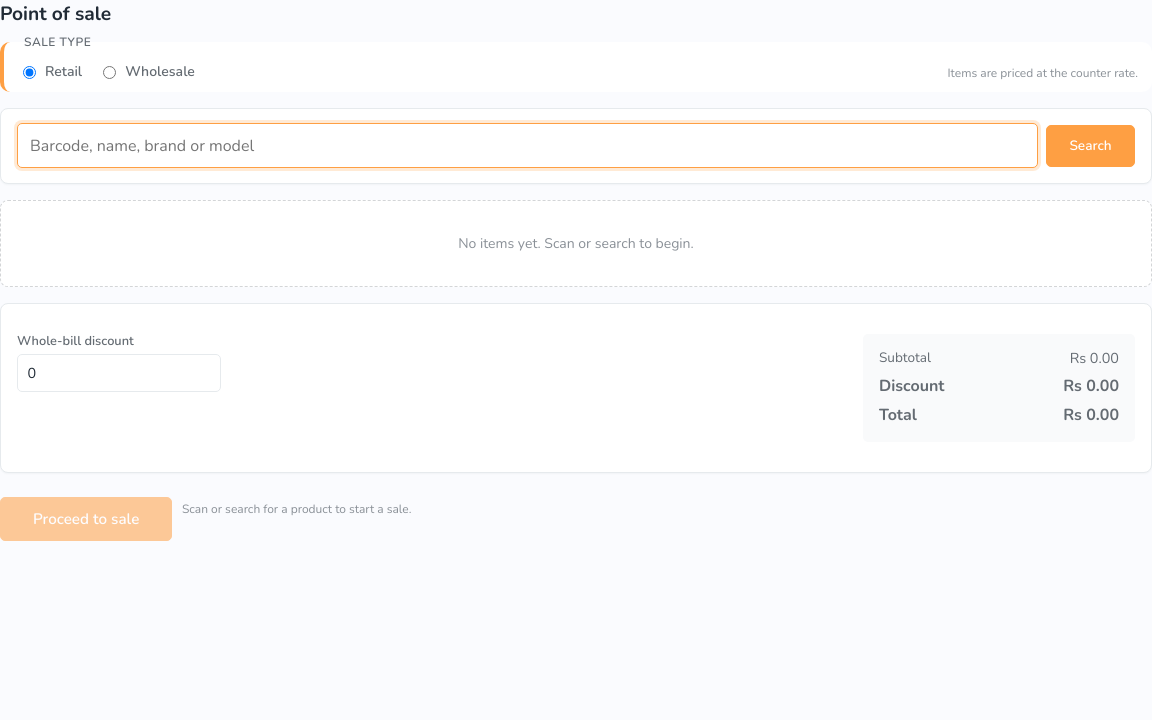
Test: payment proof after a sale › is never offered for a cash sale
Click the radio button labelled "Wholesale" at (110, 73), box [103, 66, 116, 79]
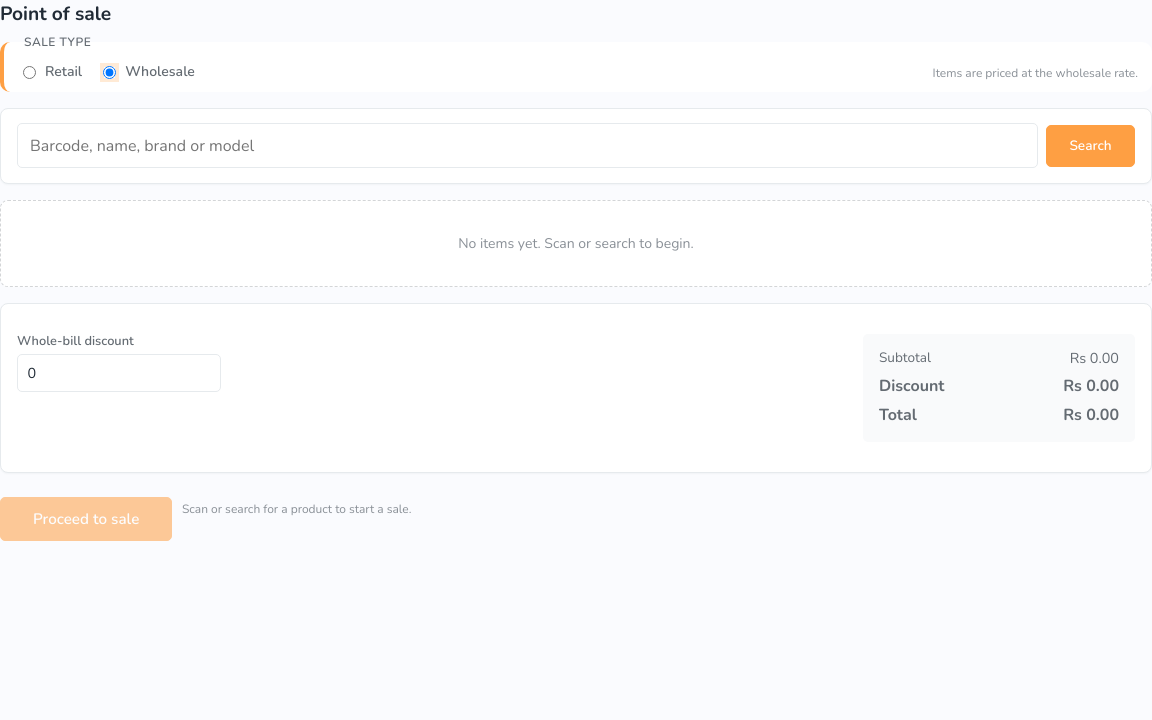
Type "8901234567890" into the field named "scan or search" at (528, 146), box [17, 123, 1038, 168]
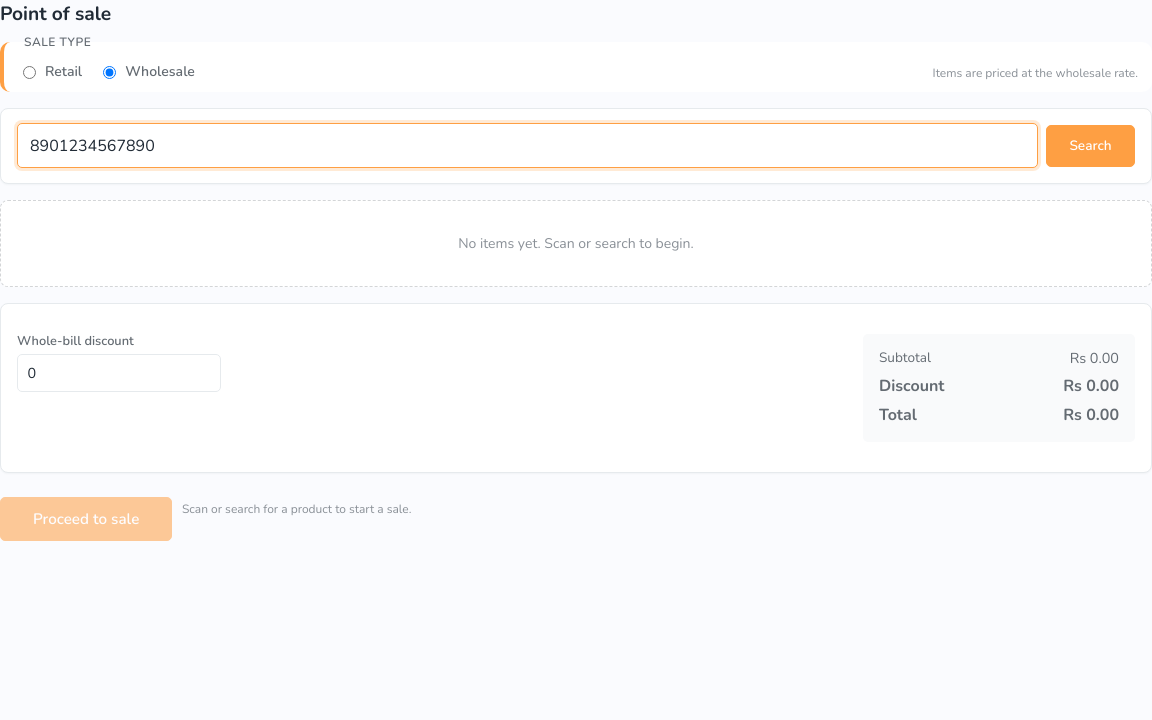
Press Enter
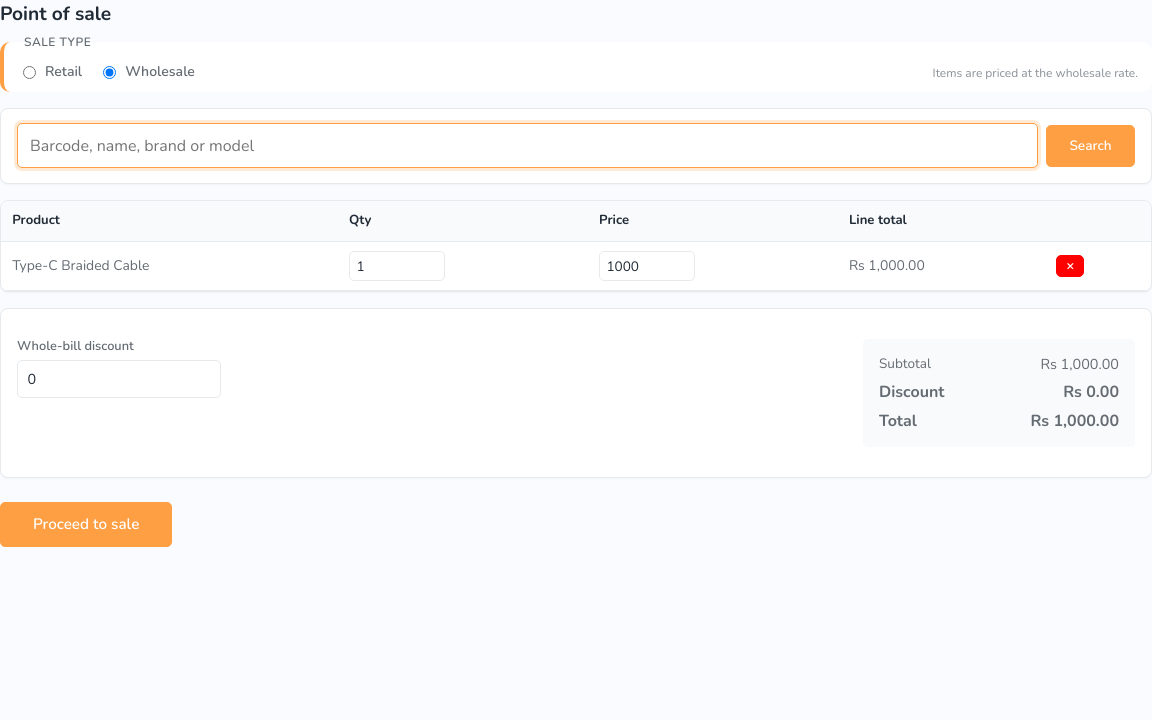
Now the row with test id "cart-line-1" is shown, box [1, 242, 1151, 291]
Click the button "Proceed to sale" at (86, 524), box [0, 502, 172, 547]
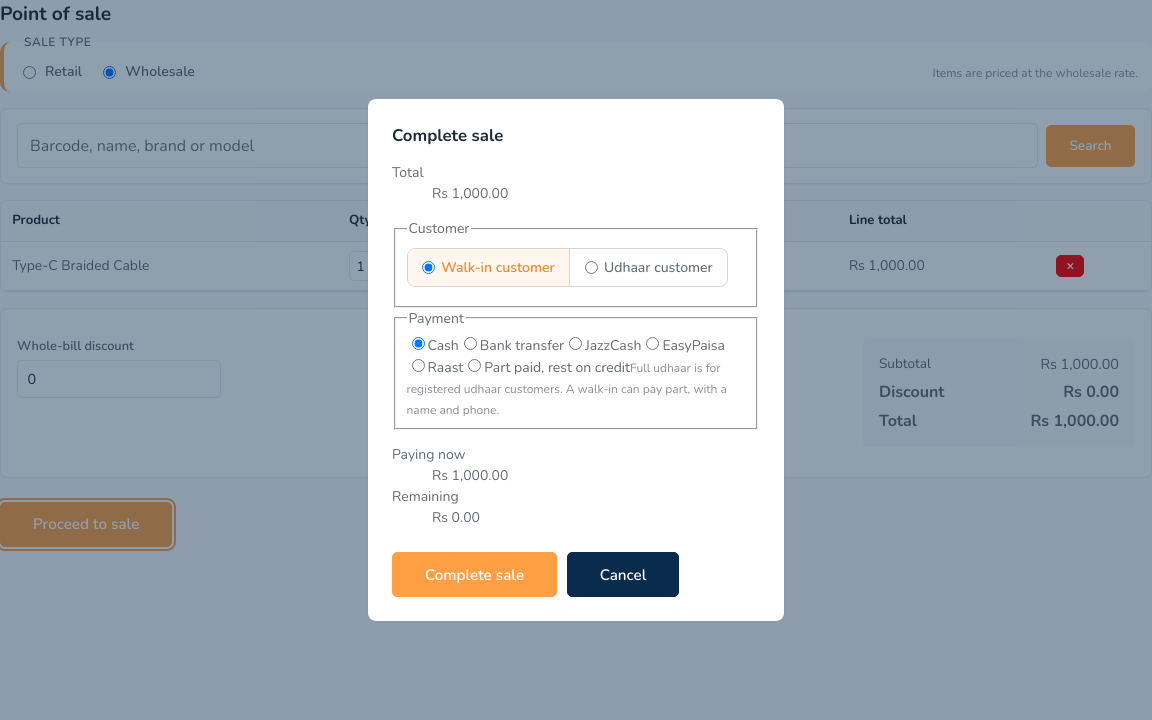
Click the radio button labelled "Cash" at (418, 343), box [412, 337, 424, 350]
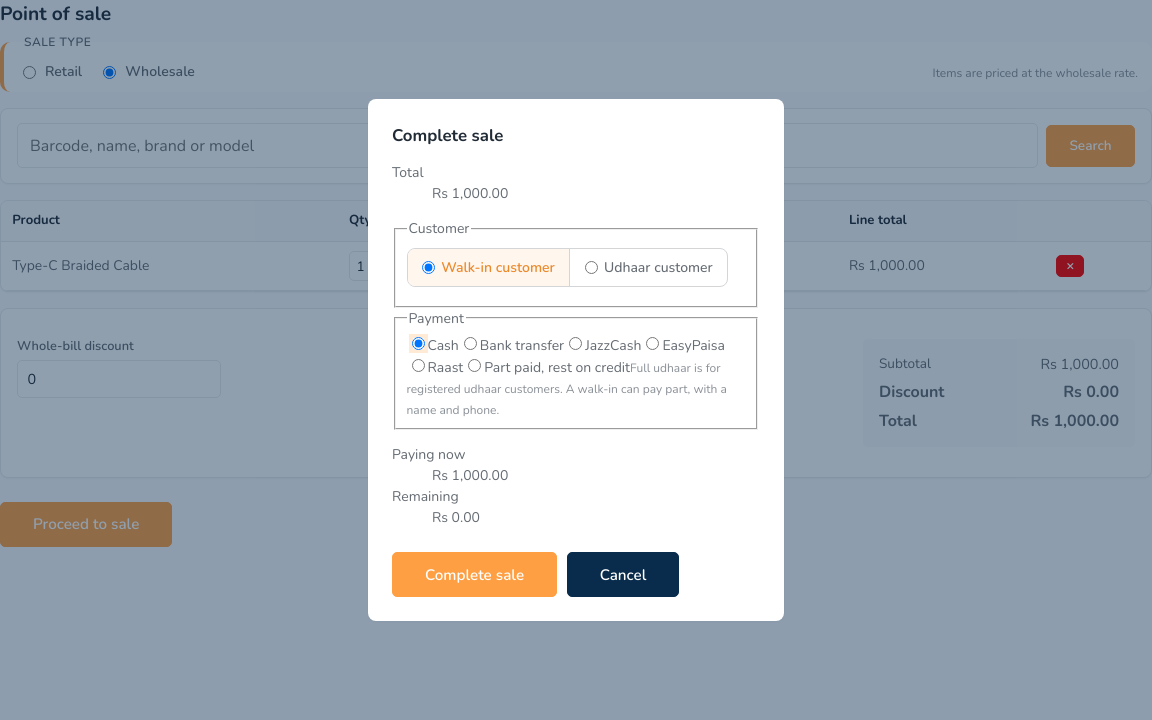
Click the button "Complete sale" at (474, 574), box [392, 552, 557, 597]
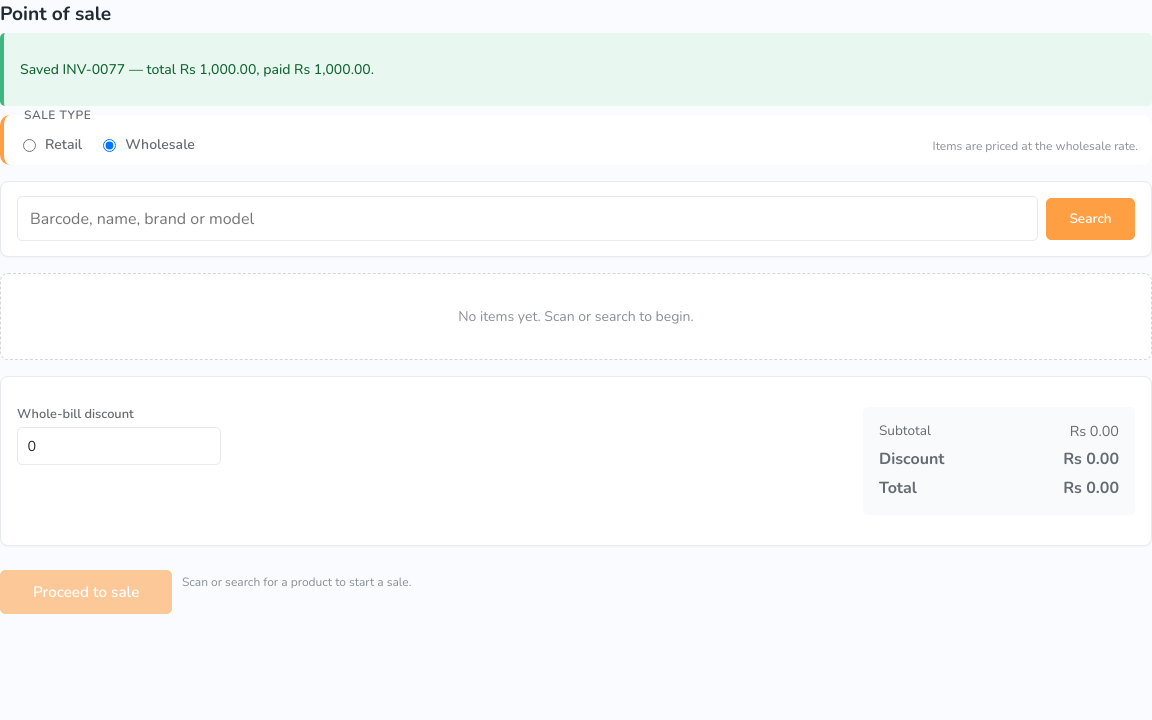
Now the text "Saved INV-0077 — total Rs 1,000.00, paid Rs 1,000.00." is shown, box [20, 60, 374, 79]
